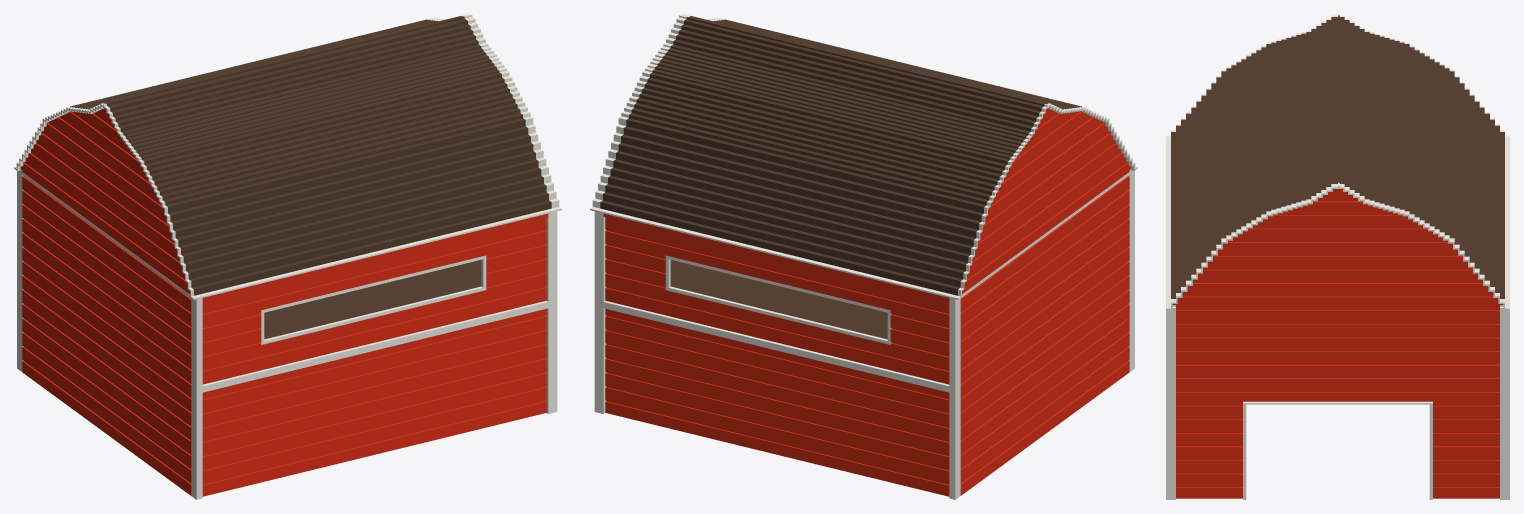
Rendered from barn1.glb.
3 renders of one model, left to right at view 1: azimuth 30°, elevation 25°; view 2: azimuth 150°, elevation 25°; view 3: azimuth 270°, elevation 25°, orthographic. The views are drawn at different scales.
Parts seen in each view (by area): view 1: Node1; view 2: Node1; view 3: Node1.
Part boxes in pixels (left/top/right/bottom): Node1: left=14, top=14, right=561, bottom=499; Node1: left=590, top=14, right=1137, bottom=499; Node1: left=1166, top=14, right=1509, bottom=499.
Size of the model in its own units: 24.4 by 20.9 by 20.6.
Materials: 1 (1 with a texture image).
